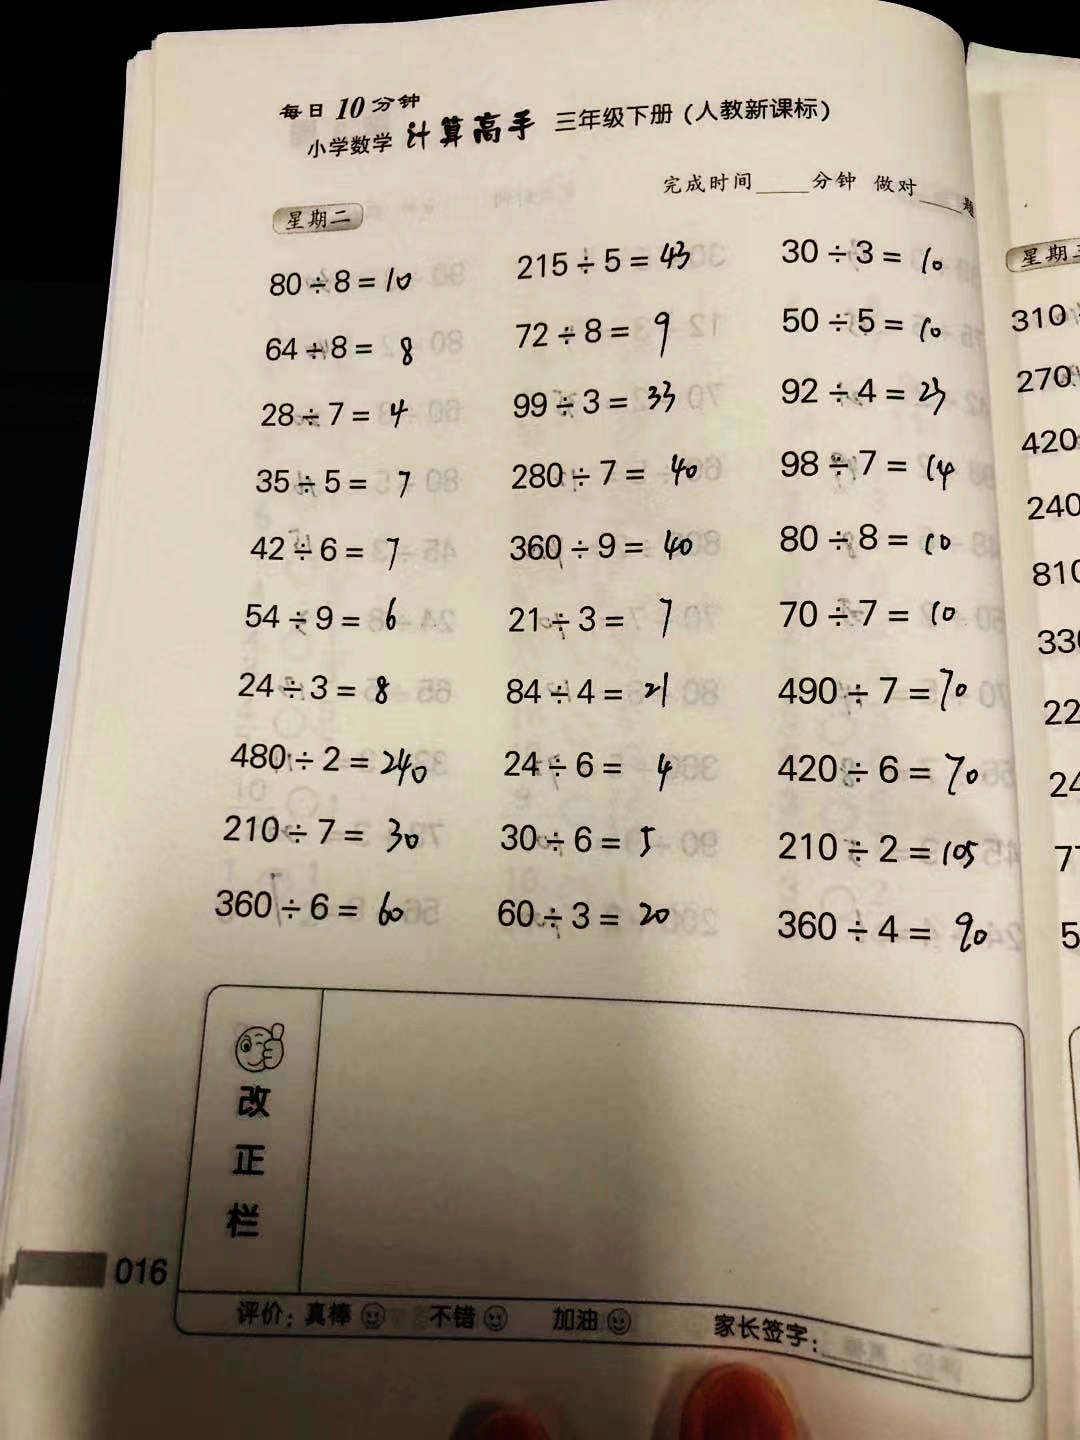equation: (770, 903, 1007, 975), (756, 819, 992, 886), (761, 742, 1001, 807), (487, 805, 697, 875), (214, 802, 441, 865), (504, 442, 746, 501), (490, 736, 712, 799), (223, 739, 452, 801), (493, 587, 699, 653), (206, 876, 425, 938), (501, 516, 716, 576), (768, 664, 994, 719), (776, 228, 967, 290), (770, 442, 984, 498), (511, 304, 701, 364), (767, 300, 967, 356), (225, 595, 434, 647), (237, 461, 454, 510), (767, 373, 981, 422), (773, 513, 974, 564), (501, 373, 699, 425), (241, 327, 434, 379), (481, 890, 674, 941), (493, 670, 694, 719), (233, 664, 414, 718), (768, 596, 982, 641), (258, 393, 436, 444), (251, 261, 441, 307), (236, 533, 427, 576), (505, 242, 711, 278)
